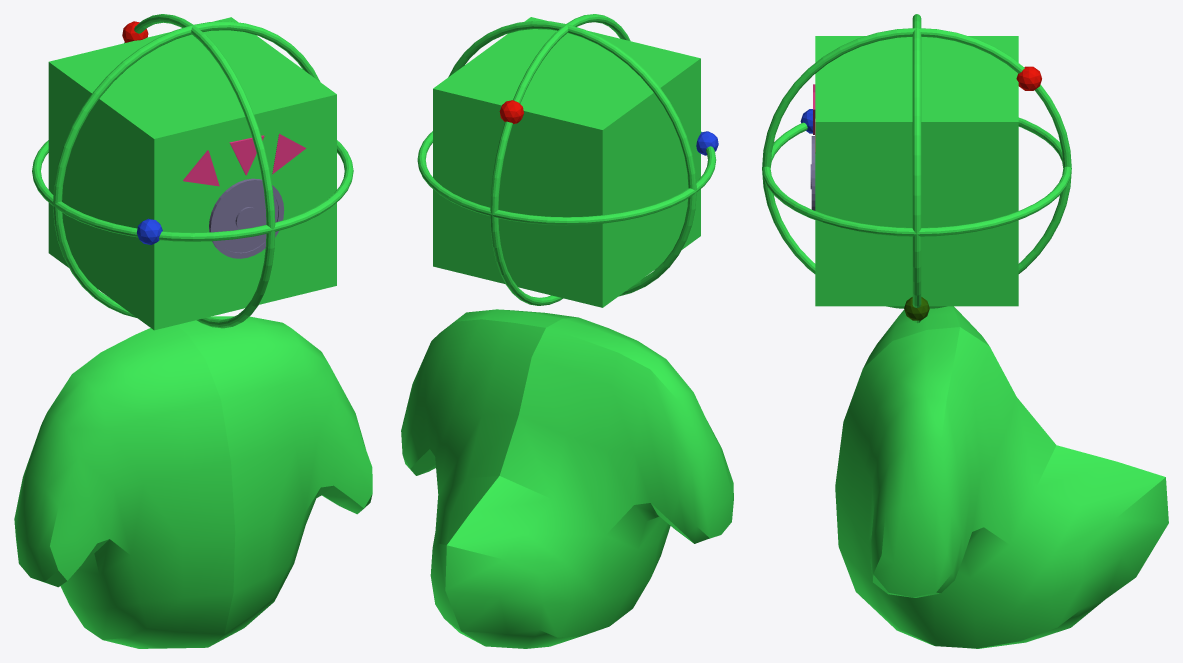
File: gizmos.fbx
The picture shows the model from 3 angles, left to right: view 1: azimuth 30°, elevation 25°; view 2: azimuth 150°, elevation 25°; view 3: azimuth 270°, elevation 25°; orthographic projection. The views are drawn at different scales.
Parts seen in each view (by area): view 1: Cube.004, Cube, Torus.001, Cylinder, Cube.001, Cube.003, Cube.002, Icosphere.001; view 2: Cube.004, Cube, Torus.001; view 3: Cube.004, Cube, Torus.001.
Part boxes in pixels (x1,y1,x2,y2): Cube.004: [14, 316, 372, 648]; Cube: [48, 17, 336, 330]; Torus.001: [32, 14, 353, 328]; Cylinder: [209, 178, 284, 258]; Cube.001: [183, 150, 219, 186]; Cube.003: [272, 133, 306, 174]; Cube.002: [229, 135, 264, 175]; Icosphere.001: [137, 218, 162, 244]; Cube.004: [401, 309, 733, 648]; Cube: [433, 17, 700, 307]; Torus.001: [417, 14, 716, 305]; Cube.004: [835, 306, 1168, 648]; Cube: [815, 36, 1018, 306]; Torus.001: [762, 14, 1071, 323].
Bounding box in the file's own units: 63.75 × 113 × 69.29.
